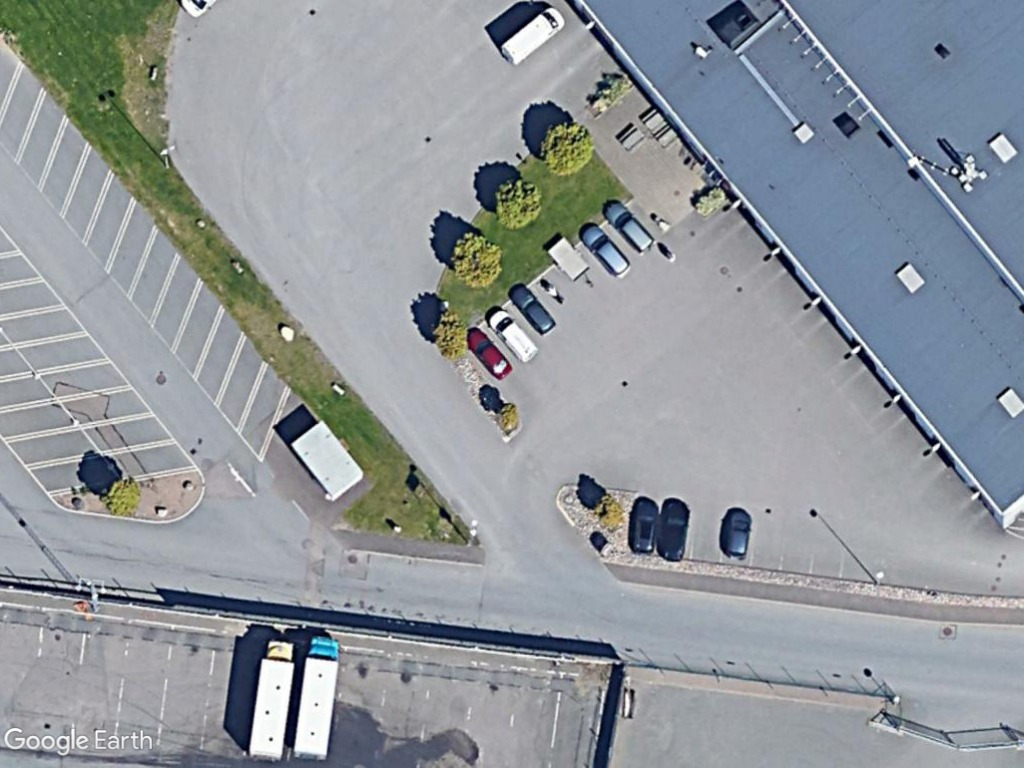car: (575, 213, 638, 283), (600, 196, 664, 259), (506, 273, 563, 341), (463, 323, 520, 389), (649, 497, 697, 564), (620, 491, 662, 555), (718, 504, 760, 565)
truck: (282, 631, 349, 765), (239, 634, 304, 766)
van: (483, 303, 550, 369), (499, 1, 567, 65)
